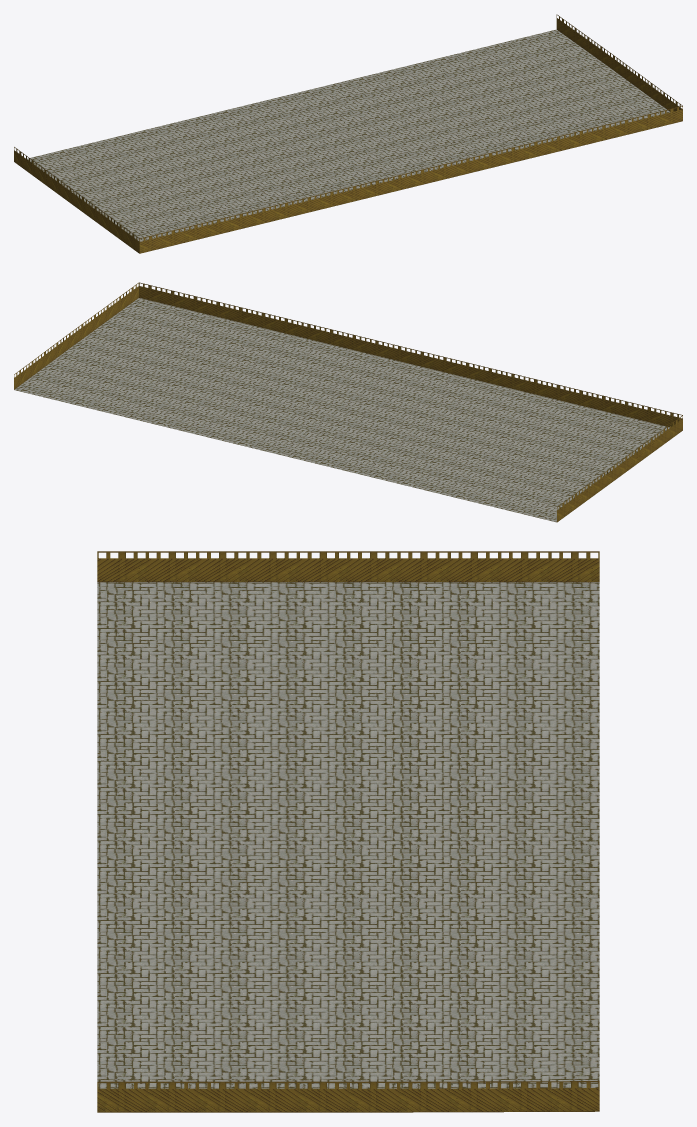
The model's file is fuuuuuuuck_sfs.obj.
3 renders of one model, top to bottom at view 1: azimuth 30°, elevation 25°; view 2: azimuth 150°, elevation 25°; view 3: azimuth 270°, elevation 25°, orthographic. The views are drawn at different scales.
Parts seen in each view (by area): view 1: fuuuuuuuck_SFS; view 2: fuuuuuuuck_SFS; view 3: fuuuuuuuck_SFS.
Boxes of the visible parts, x1,y1,x2,y2 form: fuuuuuuuck_SFS: (14,14,682,253); fuuuuuuuck_SFS: (14,282,682,522); fuuuuuuuck_SFS: (97,551,599,1112).
Bounding box in the file's own units: 120 × 3.24 × 48.04.
2 materials, 2 textured.
